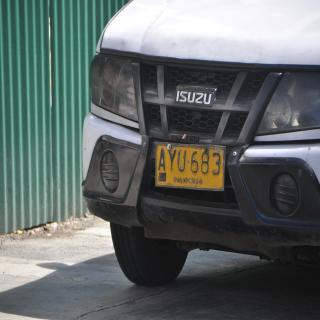license: (156, 143, 226, 191)
